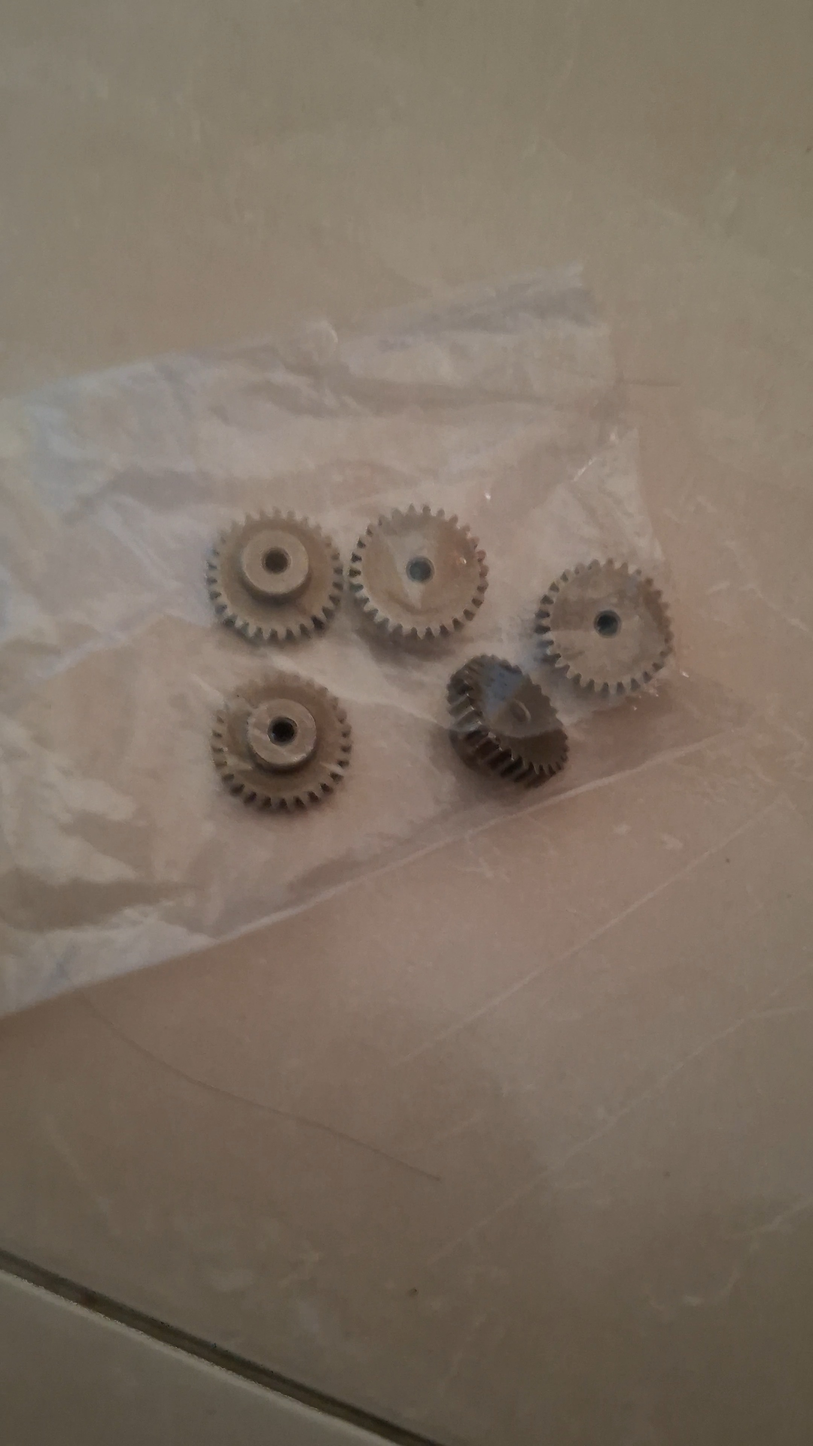spur gear: (212, 672, 350, 810), (348, 506, 487, 640), (537, 561, 672, 694), (207, 511, 342, 642), (448, 655, 568, 785)
